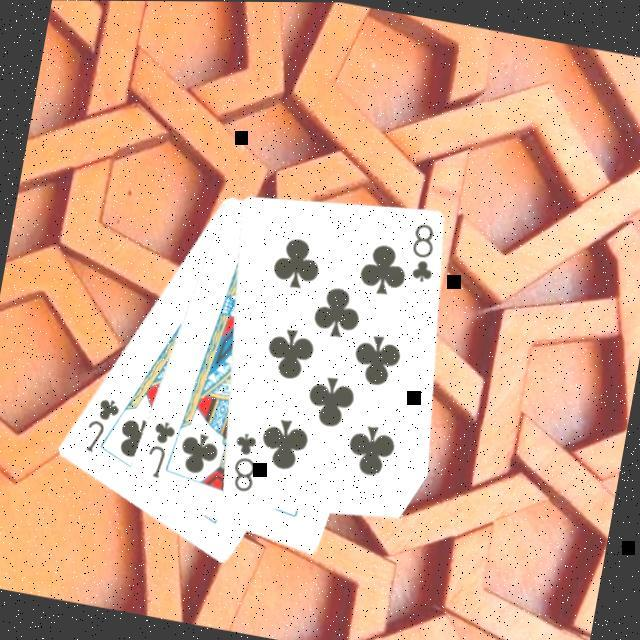8C: (224, 427, 267, 498), (404, 218, 445, 288)
JC: (80, 393, 125, 460), (140, 416, 181, 484)
